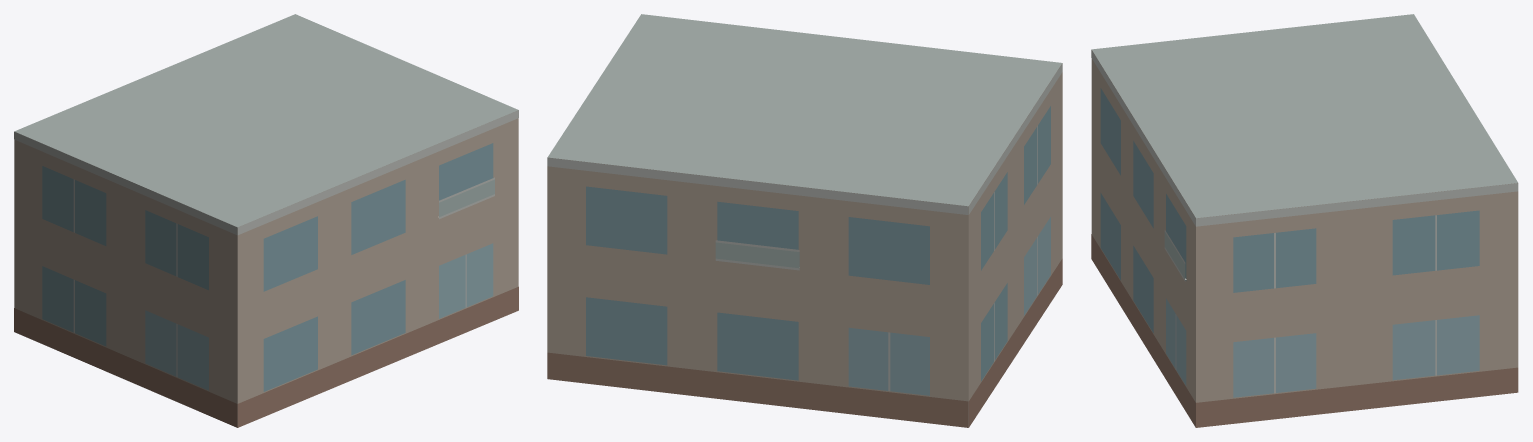
File: survey-upis-32695752.glb
3 renders of one model, left to right at view 1: azimuth 30°, elevation 25°; view 2: azimuth 150°, elevation 25°; view 3: azimuth 270°, elevation 25°, orthographic. The views are drawn at different scales.
Parts seen in each view (by area): view 1: survey-upis-32695752.tmp; view 2: survey-upis-32695752.tmp; view 3: survey-upis-32695752.tmp.
Part boxes in pixels (x1,y1,x2,y2): survey-upis-32695752.tmp: (14, 14, 518, 427); survey-upis-32695752.tmp: (547, 14, 1062, 427); survey-upis-32695752.tmp: (1091, 14, 1518, 427).
Size of the model in its own units: 12.76 by 6.1 by 11.27.
